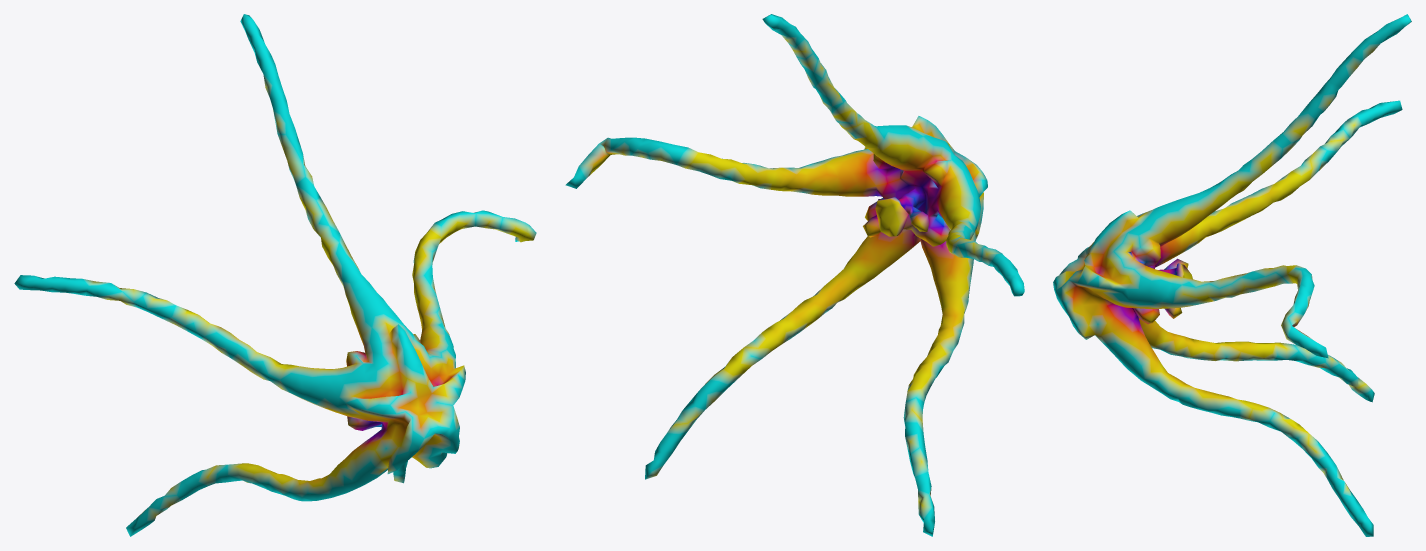
File: jelly_104.gltf
The picture shows the model from 3 angles, left to right: view 1: azimuth 30°, elevation 25°; view 2: azimuth 150°, elevation 25°; view 3: azimuth 270°, elevation 25°; orthographic projection. The views are drawn at different scales.
Parts seen in each view (by area): view 1: jellysquid3; view 2: jellysquid3; view 3: jellysquid3.
Part boxes in pixels (x1,y1,x2,y2): jellysquid3: (14,14,536,536); jellysquid3: (565,14,1024,536); jellysquid3: (1053,14,1411,536).
Bounding box in the file's own units: 18.88 × 18.61 × 13.17.
